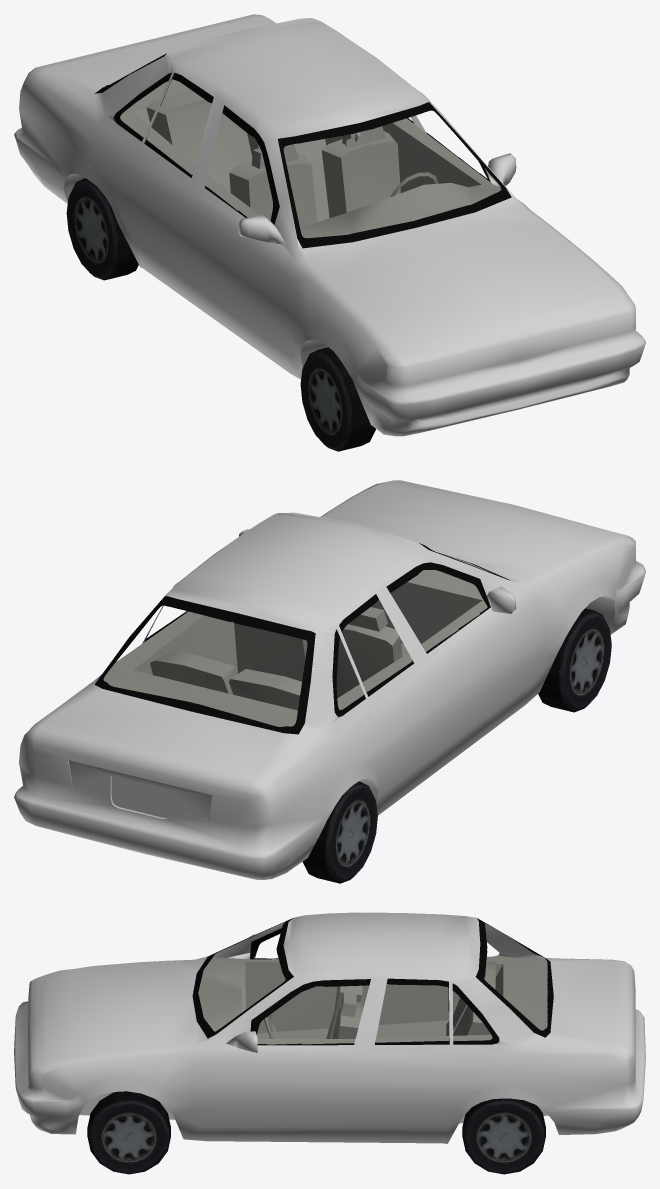
The model's file is nissan.FBX.
The picture shows the model from 3 angles, top to bottom: view 1: azimuth 30°, elevation 25°; view 2: azimuth 150°, elevation 25°; view 3: azimuth 270°, elevation 25°; orthographic projection. The views are drawn at different scales.
Parts seen in each view (by area): view 1: NSCapB, NSCapI, NSCapG, NSCapT03, NSCapT02; view 2: NSCapB, NSCapI, NSCapG, NSCapT03, NSCapT02; view 3: NSCapB, NSCapI, NSCapT01, NSCapG, NSCapT00.
Boxes of the visible parts, x1,y1,x2,y2 form: NSCapB: (14, 14, 645, 436); NSCapI: (104, 79, 501, 238); NSCapG: (95, 53, 511, 248); NSCapT03: (300, 347, 375, 451); NSCapT02: (66, 178, 138, 280); NSCapB: (14, 480, 645, 879); NSCapI: (103, 555, 490, 726); NSCapG: (94, 543, 510, 734); NSCapT03: (538, 608, 611, 712); NSCapT02: (302, 781, 377, 883); NSCapB: (14, 912, 645, 1143); NSCapI: (198, 955, 547, 1044); NSCapT01: (87, 1091, 170, 1174); NSCapG: (192, 918, 553, 1045); NSCapT00: (462, 1098, 545, 1174).
Size of the model in its own units: 68.38 by 55.55 by 170.
